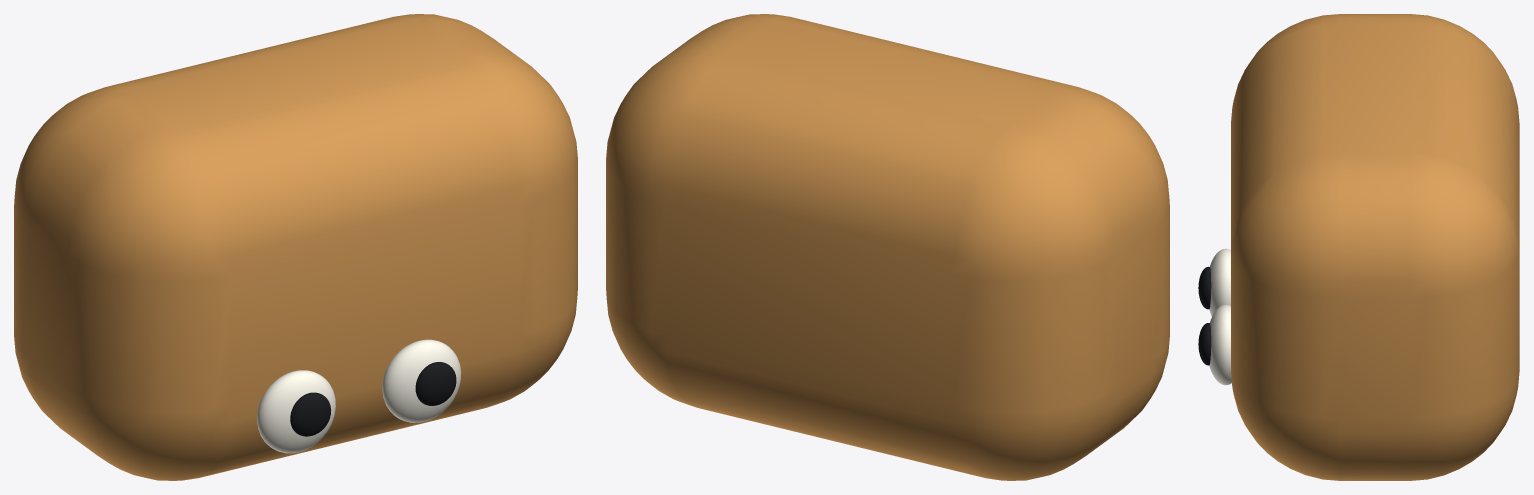
The model's file is img-9988.glb.
3 renders of one model, left to right at view 1: azimuth 30°, elevation 25°; view 2: azimuth 150°, elevation 25°; view 3: azimuth 270°, elevation 25°, orthographic. The views are drawn at different scales.
Visible parts, largest first — view 1: IMG_9988__Soft caramel cushion.009, IMG_9988__EyeWhite_1.013, IMG_9988__EyeWhite_0.013, IMG_9988__Pupil_1.013, IMG_9988__Pupil_0.013; view 2: IMG_9988__Soft caramel cushion.009; view 3: IMG_9988__Soft caramel cushion.009, IMG_9988__EyeWhite_1.013, IMG_9988__EyeWhite_0.013, IMG_9988__Pupil_0.013, IMG_9988__Pupil_1.013.
Part boxes in pixels (x1,y1,x2,y2): IMG_9988__Soft caramel cushion.009: (14, 14, 577, 480); IMG_9988__EyeWhite_1.013: (382, 339, 461, 422); IMG_9988__EyeWhite_0.013: (257, 370, 335, 453); IMG_9988__Pupil_1.013: (415, 362, 456, 405); IMG_9988__Pupil_0.013: (290, 392, 331, 436); IMG_9988__Soft caramel cushion.009: (606, 14, 1169, 480); IMG_9988__Soft caramel cushion.009: (1231, 14, 1519, 480); IMG_9988__EyeWhite_1.013: (1209, 304, 1231, 385); IMG_9988__EyeWhite_0.013: (1209, 248, 1230, 316); IMG_9988__Pupil_0.013: (1198, 266, 1211, 309); IMG_9988__Pupil_1.013: (1198, 323, 1211, 365).
Bounding box in the file's own units: 1.49 × 1 × 0.9148.
